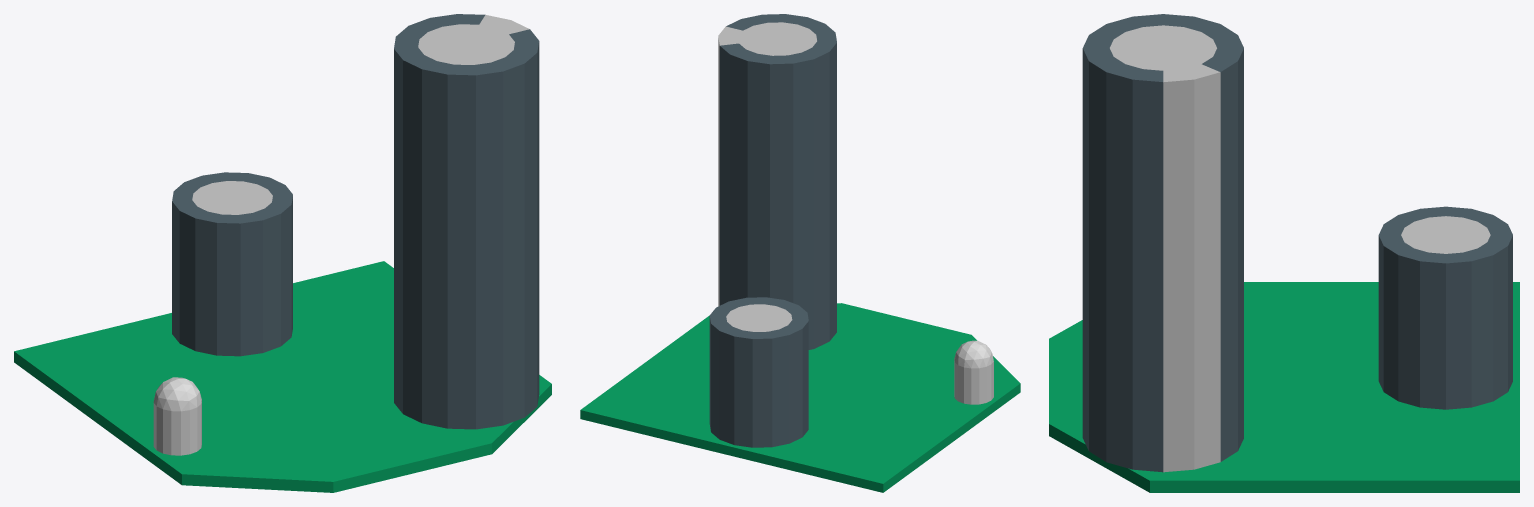
The picture shows the model from 3 angles, left to right: view 1: azimuth 30°, elevation 25°; view 2: azimuth 150°, elevation 25°; view 3: azimuth 270°, elevation 25°; orthographic projection. The views are drawn at different scales.
Parts seen in each view (by area): view 1: world; view 2: world; view 3: world.
Boxes of the visible parts, x1,y1,x2,y2 form: world: (14, 14, 551, 492); world: (580, 14, 1020, 492); world: (1049, 14, 1519, 492).
Bounding box in the file's own units: 0.028 × 0.0264 × 0.028.
